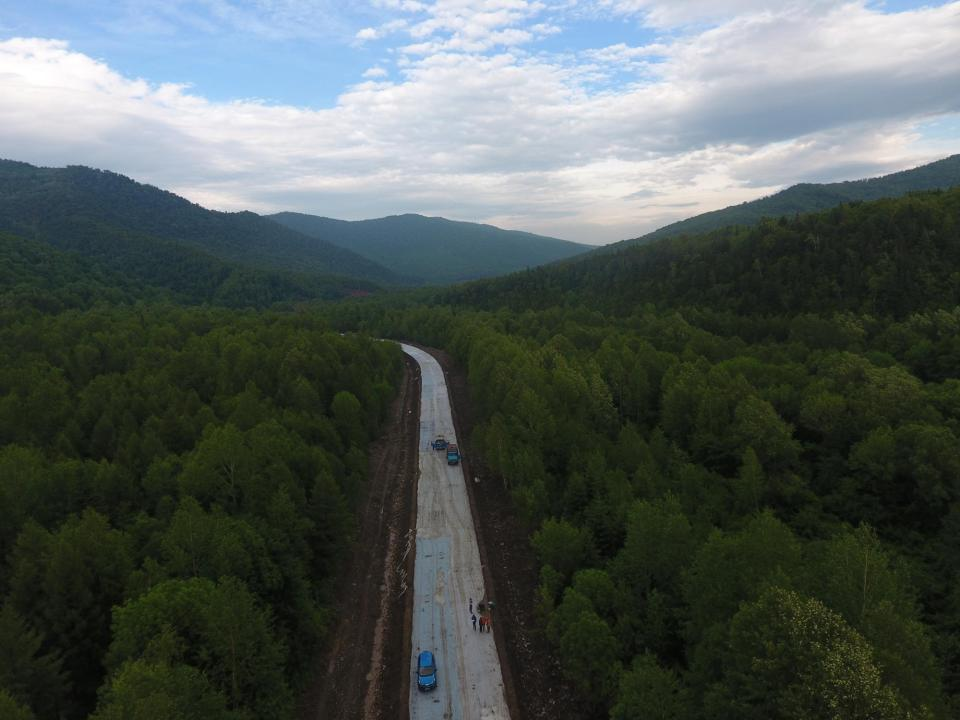car: (416, 651, 436, 691)
truck: (446, 444, 462, 465), (431, 434, 449, 450)
